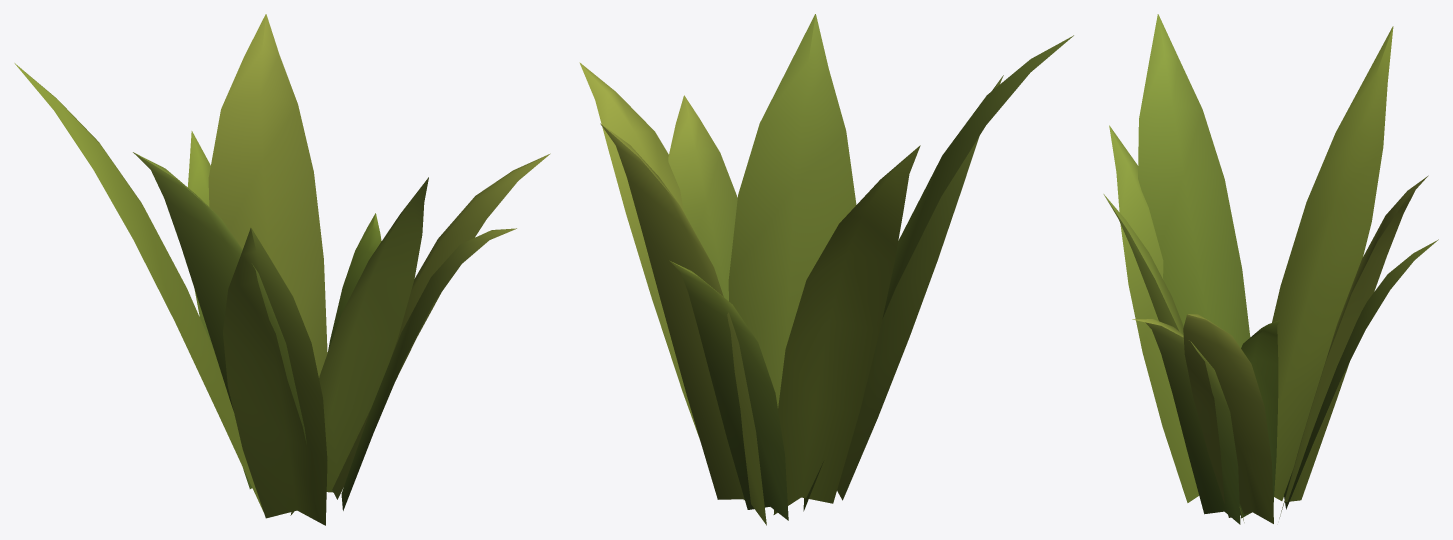
The model's file is grass_reed_narrow.glb.
3 views of the same model, side by side, from view 1: azimuth 30°, elevation 25°; view 2: azimuth 150°, elevation 25°; view 3: azimuth 270°, elevation 25° (orthographic). The views are drawn at different scales.
Visible parts, largest first — view 1: Plant; view 2: Plant; view 3: Plant.
Part boxes in pixels (x1,y1,x2,y2): Plant: [14, 14, 550, 525]; Plant: [579, 14, 1073, 525]; Plant: [1103, 14, 1438, 524].
Size of the model in its own units: 0.391 by 0.3767 by 0.2885.
